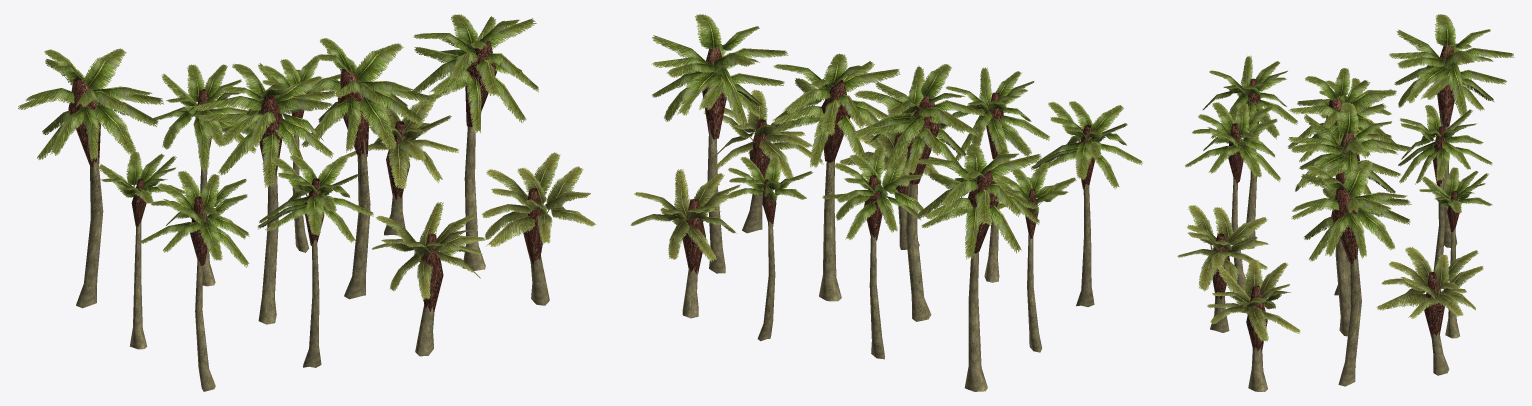
Rendered from orchard_date_b.glb.
The picture shows the model from 3 angles, left to right: view 1: azimuth 30°, elevation 25°; view 2: azimuth 150°, elevation 25°; view 3: azimuth 270°, elevation 25°; orthographic projection. The views are drawn at different scales.
Visible parts, largest first — view 1: palm_0, palm_4, palm_7, palm_10, palm_11, palm_2, palm_5, palm_8, palm_3, palm_9, palm_1, palm_6; view 2: palm_10, palm_7, palm_4, palm_0, palm_3, palm_2, palm_9, palm_5, palm_11, palm_6, palm_1, palm_8; view 3: palm_10, palm_0, palm_7, palm_9, palm_5, palm_11, palm_8, palm_4, palm_3, palm_2, palm_6, palm_1.
Boxes of the visible parts, x1=… form: palm_0: x1=18, y1=48, x2=163, y2=308; palm_4: x1=194, y1=63, x2=335, y2=324; palm_7: x1=301, y1=38, x2=432, y2=299; palm_10: x1=412, y1=14, x2=538, y2=270; palm_11: x1=481, y1=152, x2=595, y2=305; palm_2: x1=140, y1=170, x2=249, y2=391; palm_5: x1=257, y1=155, x2=373, y2=367; palm_8: x1=372, y1=202, x2=485, y2=356; palm_3: x1=145, y1=64, x2=256, y2=286; palm_9: x1=340, y1=94, x2=458, y2=235; palm_1: x1=98, y1=151, x2=185, y2=349; palm_6: x1=258, y1=56, x2=340, y2=252; palm_10: x1=651, y1=14, x2=788, y2=273; palm_7: x1=772, y1=53, x2=900, y2=301; palm_4: x1=848, y1=64, x2=985, y2=321; palm_0: x1=916, y1=144, x2=1042, y2=391; palm_3: x1=822, y1=145, x2=928, y2=359; palm_2: x1=1031, y1=101, x2=1142, y2=306; palm_9: x1=630, y1=169, x2=740, y2=318; palm_5: x1=940, y1=67, x2=1049, y2=282; palm_11: x1=704, y1=89, x2=823, y2=233; palm_6: x1=727, y1=156, x2=813, y2=341; palm_1: x1=994, y1=162, x2=1076, y2=352; palm_8: x1=839, y1=106, x2=951, y2=249; palm_10: x1=1291, y1=160, x2=1411, y2=386; palm_0: x1=1389, y1=14, x2=1513, y2=247; palm_7: x1=1288, y1=102, x2=1412, y2=336; palm_9: x1=1376, y1=247, x2=1483, y2=375; palm_5: x1=1185, y1=102, x2=1280, y2=290; palm_11: x1=1207, y1=259, x2=1300, y2=391; palm_8: x1=1177, y1=205, x2=1268, y2=332; palm_4: x1=1288, y1=68, x2=1396, y2=295; palm_3: x1=1398, y1=105, x2=1492, y2=271; palm_2: x1=1202, y1=56, x2=1297, y2=249; palm_6: x1=1419, y1=167, x2=1492, y2=338; palm_1: x1=1319, y1=78, x2=1391, y2=196.
Bounding box in the file's own units: 44.12 × 22.7 × 33.06.
12 materials, 12 textured.
